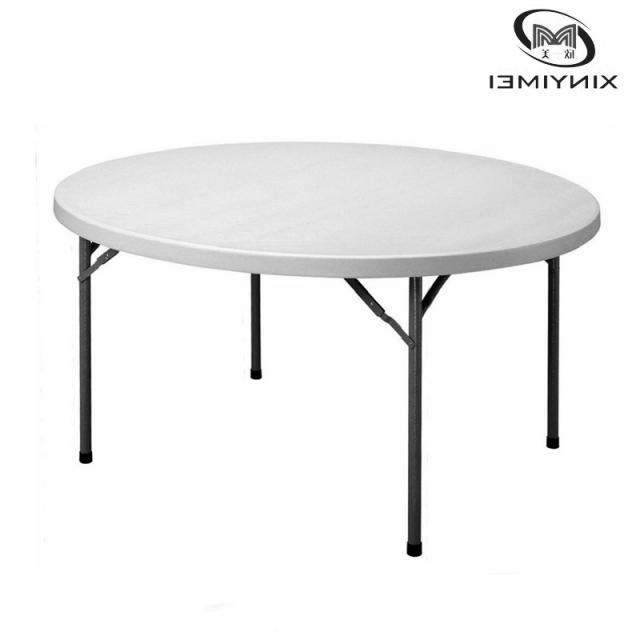table: (54, 140, 601, 559)
